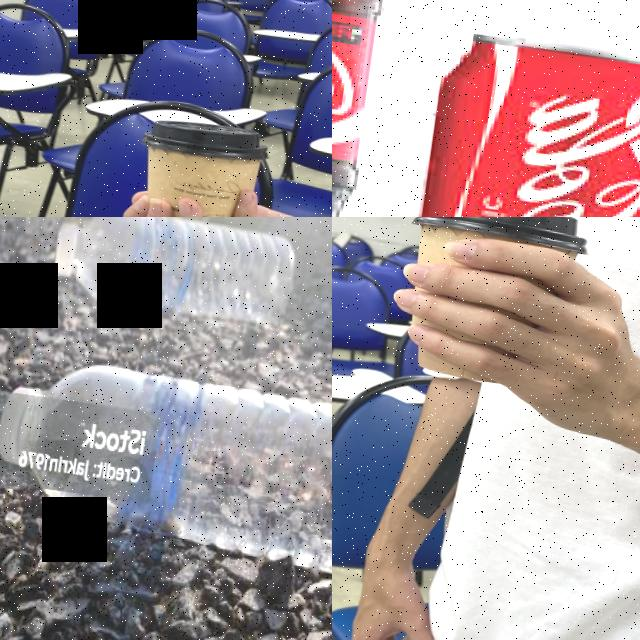bottle: (0, 351, 332, 586), (42, 217, 296, 336), (332, 0, 416, 217)
can: (388, 26, 640, 217)
cup: (392, 217, 593, 396), (129, 114, 272, 217)
